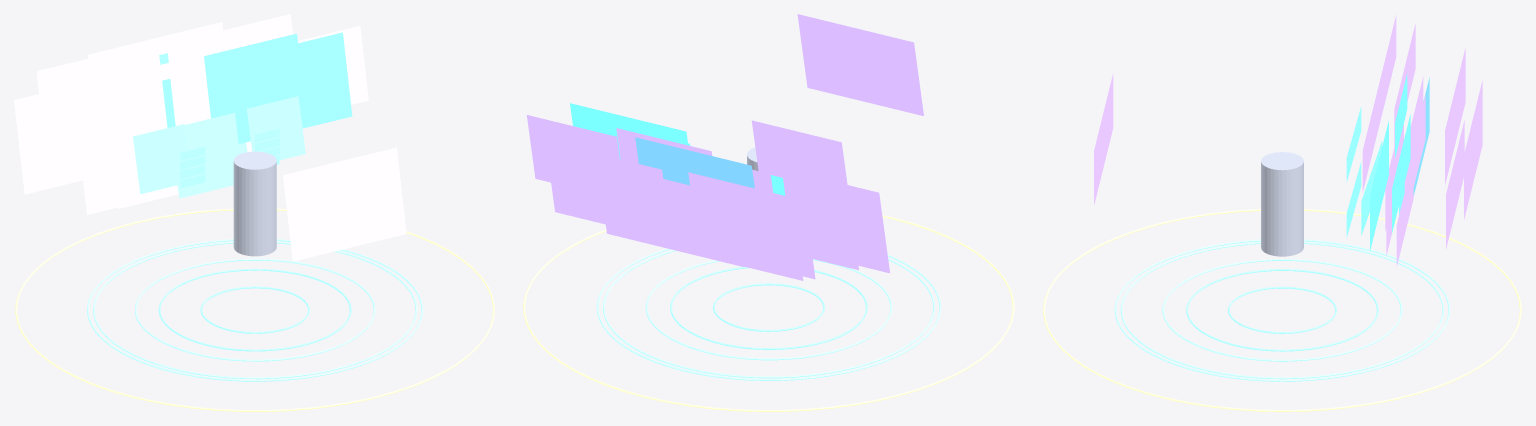
The model's file is nemosyne_panel_layout_c1.glb.
The picture shows the model from 3 angles, left to right: view 1: azimuth 30°, elevation 25°; view 2: azimuth 150°, elevation 25°; view 3: azimuth 270°, elevation 25°; orthographic projection. The views are drawn at different scales.
Parts seen in each view (by area): view 1: VRMenu.002, ChartPlanePanel.002, InputTelemetry.002, LoadTestPanel.002, C1_Torso.001, InteractionCoach_n.002, PeerPresenceHUD_n.002, MiniOverview_n.002, C1_R_2.001, TelemetryPanel.002, SettingsPanel.002, C1_R_1.003 (+10 smaller); view 2: MonetaDiagnosticHUD.002, ChartPlanePanel.002, LoadTestPanel.002, SchemaMappingPanel.002, VRMenu.002, MonetaExplainerPanel.002, VRConsole.003, GestureConfidenceHUD.002, C1_R_2.001, InputTelemetry.002, C1_R_1.003, C1_R_1.002 (+5 smaller); view 3: C1_Torso.001, C1_R_2.001, C1_R_1.003, C1_R_1.002, VRMenu.002, C1_R_1.001, MonetaDiagnosticHUD.002, SchemaMappingPanel.002, ChartPlanePanel.002, C1_R_0.002, InputTelemetry.002, MonetaExplainerPanel.002 (+11 smaller).
Boxes of the visible parts, x1,y1,x2,y2 form: VRMenu.002: (70,44,174,214); ChartPlanePanel.002: (283,147,406,261); InputTelemetry.002: (229,32,352,143); LoadTestPanel.002: (14,86,82,194); C1_Torso.001: (233,151,276,256); InteractionCoach_n.002: (177,113,247,198); PeerPresenceHUD_n.002: (133,124,191,194); MiniOverview_n.002: (246,96,305,160); C1_R_2.001: (15,208,494,411); TelemetryPanel.002: (204,33,297,118); SettingsPanel.002: (167,29,262,108); C1_R_1.003: (87,239,423,381); MonetaDiagnosticHUD.002: (597,163,744,267); ChartPlanePanel.002: (797,14,923,115); LoadTestPanel.002: (781,169,889,273); SchemaMappingPanel.002: (688,172,815,279); VRMenu.002: (751,120,858,270); MonetaExplainerPanel.002: (545,141,663,224); VRConsole.003: (635,137,754,188); GestureConfidenceHUD.002: (527,115,619,182); C1_R_2.001: (523,215,1014,411); InputTelemetry.002: (570,103,687,143); C1_R_1.003: (596,248,941,380); C1_R_1.002: (603,250,934,378); C1_Torso.001: (1261,152,1303,256); C1_R_2.001: (1043,209,1521,411); C1_R_1.003: (1114,239,1450,381); C1_R_1.002: (1120,242,1444,379); VRMenu.002: (1362,15,1396,192); C1_R_1.001: (1162,259,1402,361); MonetaDiagnosticHUD.002: (1464,80,1482,219); SchemaMappingPanel.002: (1445,48,1465,184); ChartPlanePanel.002: (1094,73,1113,205); C1_R_0.002: (1186,269,1378,351); InputTelemetry.002: (1370,120,1388,250); MonetaExplainerPanel.002: (1446,120,1464,249).
Bounding box in the file's own units: 4.02 × 2.17 × 4.02.
